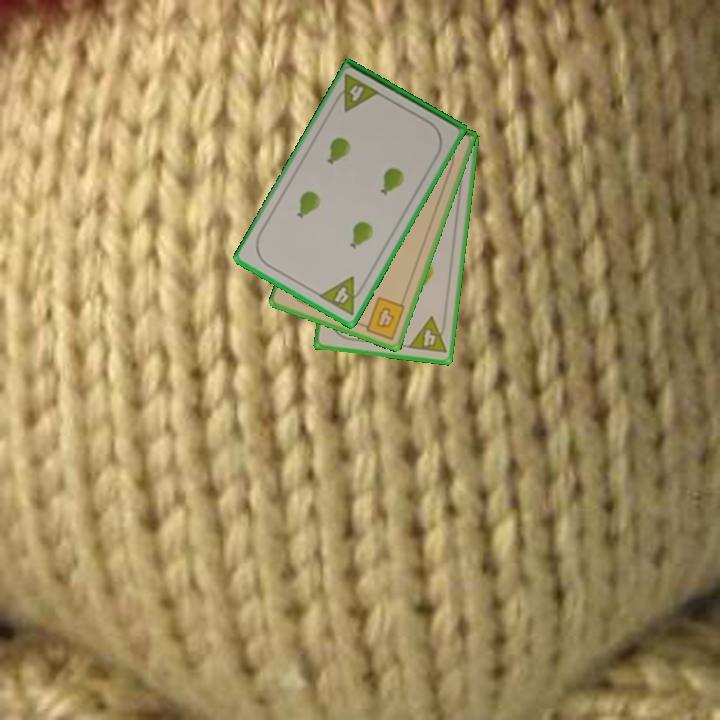4b: (357, 293, 408, 343)
4p: (315, 273, 369, 318), (330, 70, 383, 115), (404, 313, 449, 356)
